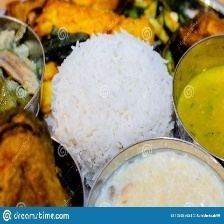rice: (47, 25, 178, 188)
